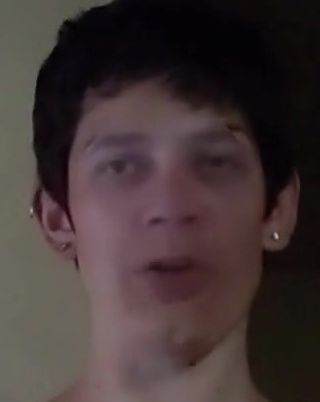eb_f: (76, 117, 259, 199)
